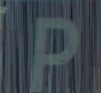Parking: (24, 4, 87, 86)
